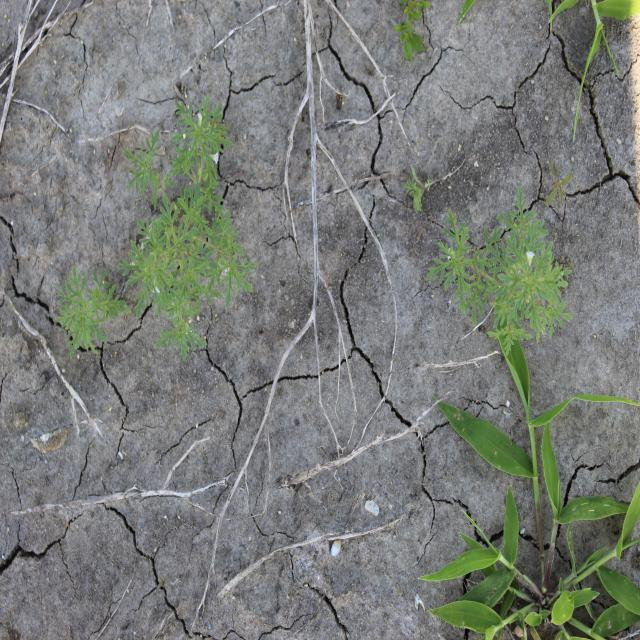Ragweed: (114, 95, 260, 362), (424, 185, 574, 358), (53, 264, 127, 362), (403, 163, 444, 216)
